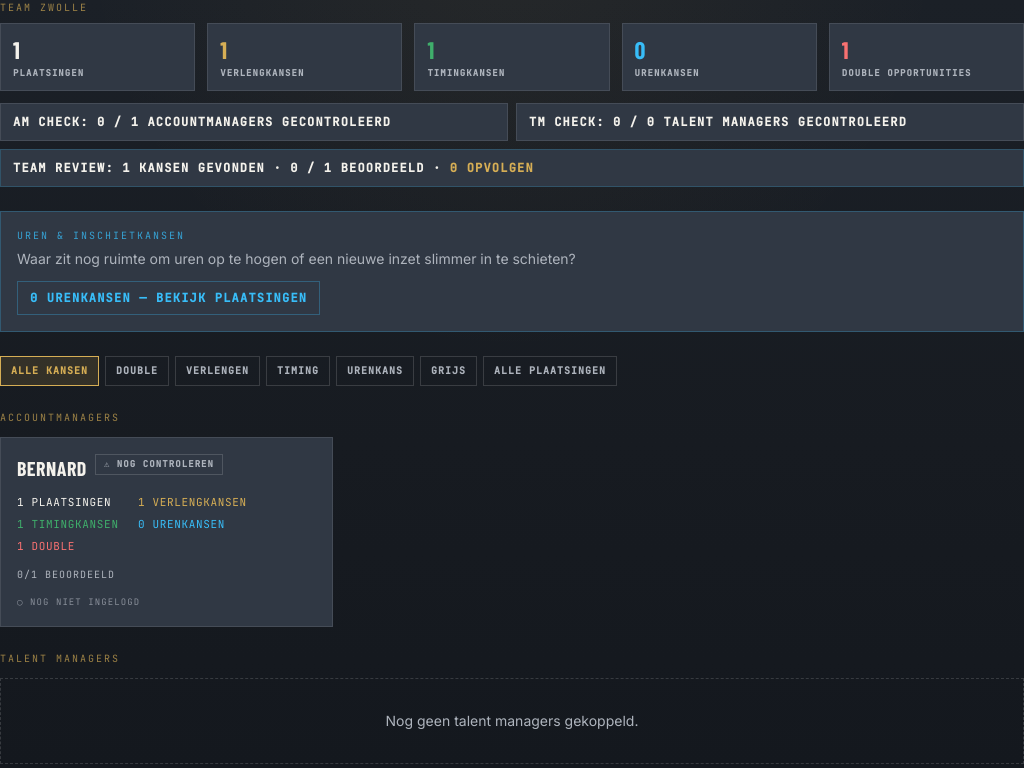
Test: FridayReviewView › clicking an accountmanager's card opens their drilldown showing their actual placements
The image size is (1024, 768).
What coordinates should you click on to do the following:
click the text "Bernard"
I would click on:
 (52, 468)
Its box is x1=17 y1=454 x2=87 y2=482.
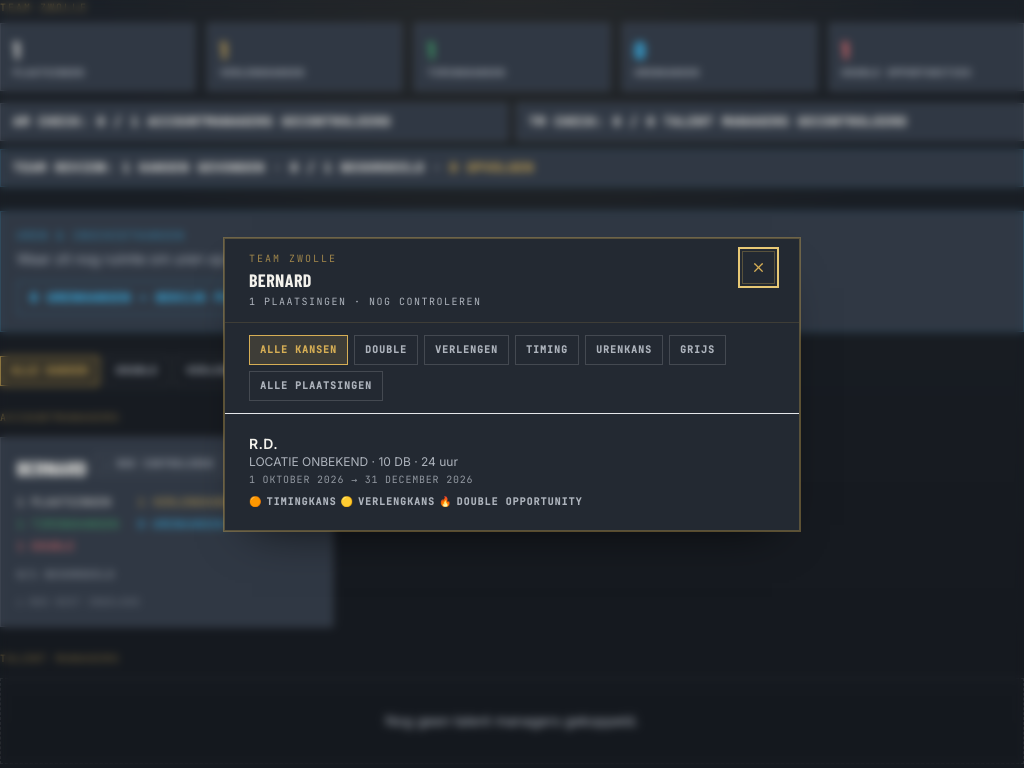
Now the text "R.D." is shown, box x1=249 y1=434 x2=278 y2=452
